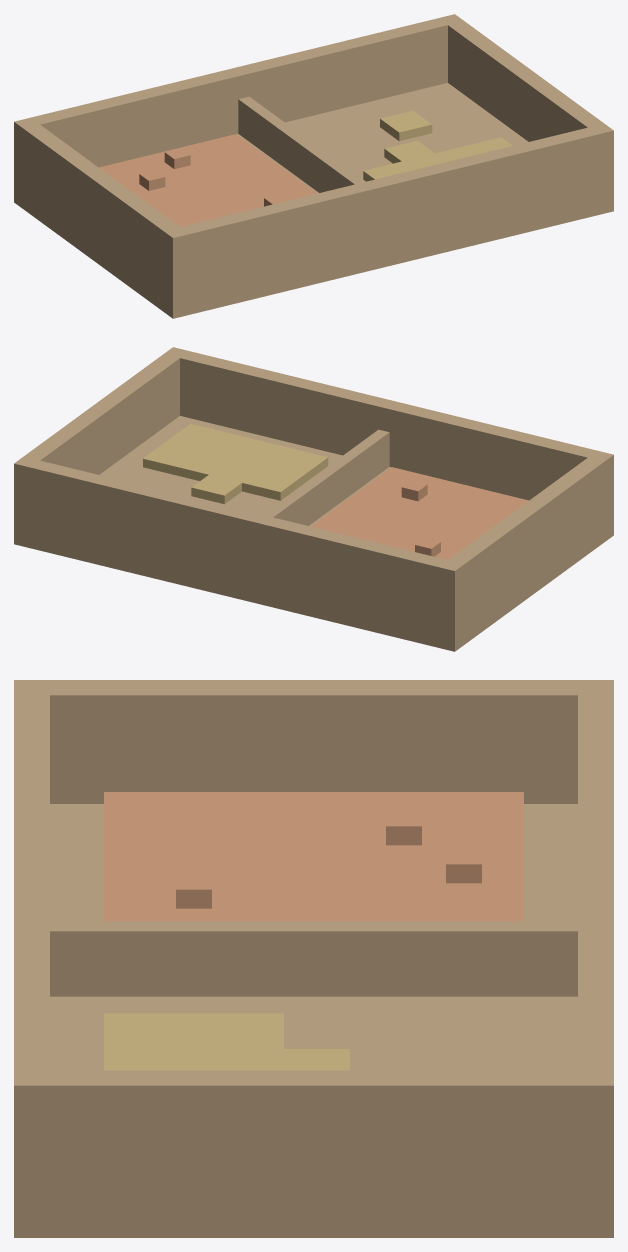
Rendered from prop-rivet-eyelet-tray.fbx.
3 views of the same model, one above another, from view 1: azimuth 30°, elevation 25°; view 2: azimuth 150°, elevation 25°; view 3: azimuth 270°, elevation 25° (orthographic). The views are drawn at different scales.
Parts seen in each view (by area): view 1: prop-rivet-eyelet-tray; view 2: prop-rivet-eyelet-tray; view 3: prop-rivet-eyelet-tray.
Boxes of the visible parts, left/top/right/bottom form: prop-rivet-eyelet-tray: left=14, top=14, right=613, bottom=318; prop-rivet-eyelet-tray: left=14, top=347, right=613, bottom=651; prop-rivet-eyelet-tray: left=14, top=680, right=613, bottom=1237.
Bounding box in the file's own units: 16 × 2.8 × 10.
